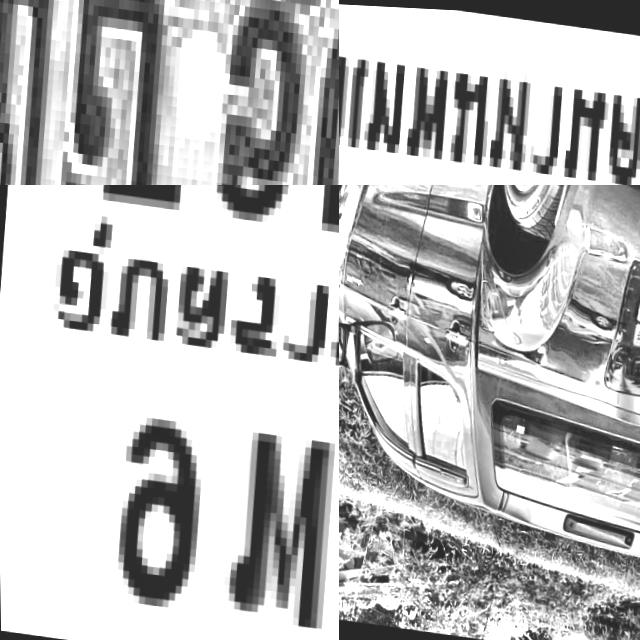license-plate: (0, 185, 339, 640), (0, 0, 339, 185), (339, 0, 640, 185)
